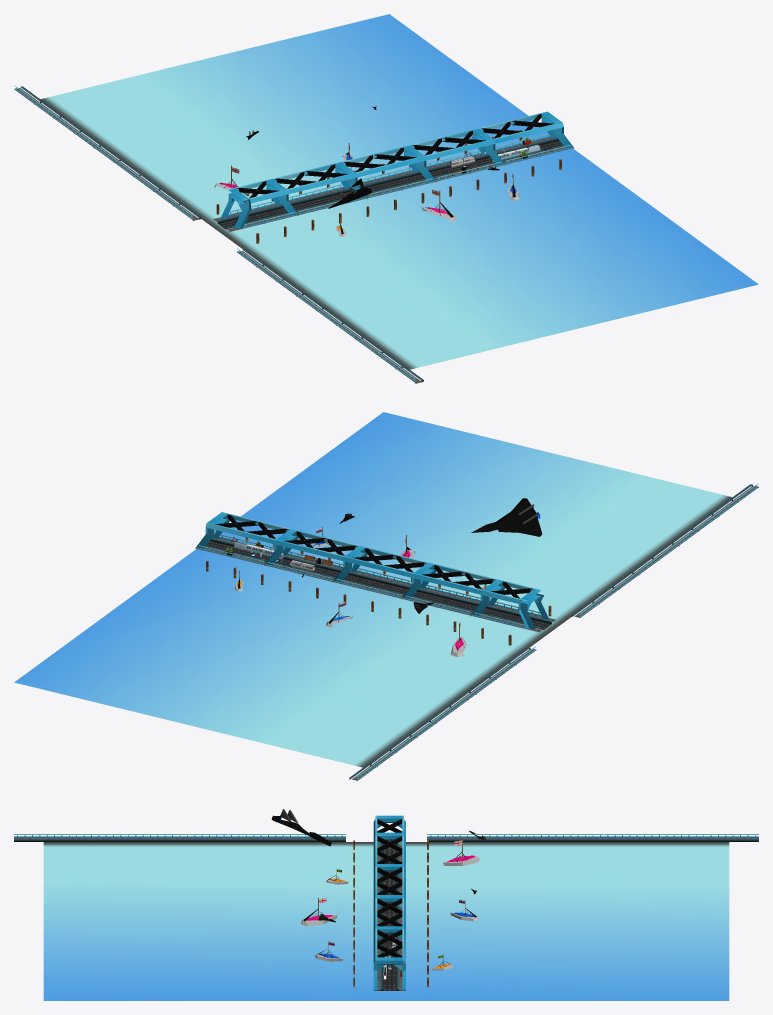
File: subwaysurferstest36.glb
The picture shows the model from 3 angles, top to bottom: view 1: azimuth 30°, elevation 25°; view 2: azimuth 150°, elevation 25°; view 3: azimuth 270°, elevation 25°; orthographic projection. The views are drawn at different scales.
Visible parts, largest first — view 1: Water, Overpass.004, Overpass.002, Overpass.001, Overpass, Overpass.003; view 2: Water, Overpass.004, Overpass, Overpass.001, Overpass.002, Overpass.003, Plane1.001; view 3: Water, Overpass, Overpass.001, Overpass.002, Overpass.003, Overpass.004, Plane1.001, boat1.003.
Boxes of the visible parts, x1,y1,x2,y2 form: Water: (40,14,758,369); Overpass.004: (220,178,298,228); Overpass.002: (341,145,435,181); Overpass.001: (410,128,504,164); Overpass: (479,111,573,147); Overpass.003: (273,162,367,198); Water: (14,412,732,767); Overpass.004: (471,579,549,629); Overpass: (196,512,290,548); Overpass.001: (264,529,359,565); Overpass.002: (333,545,427,581); Overpass.003: (402,562,496,598); Plane1.001: (471,498,542,536); Water: (43,842,729,1000); Overpass: (373,929,405,990); Overpass.001: (373,898,405,939); Overpass.002: (373,867,405,907); Overpass.003: (373,836,405,876); Overpass.004: (373,815,405,845); Plane1.001: (271,809,331,846); boat1.003: (443,839,479,865).
Size of the model in its own units: 418 by 87.32 by 808.
5 materials, 5 textured.
